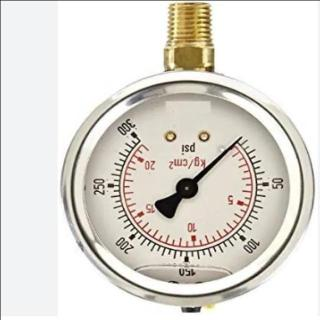gauge: (58, 64, 318, 316), (126, 127, 150, 153), (174, 177, 198, 199), (226, 128, 248, 152), (233, 132, 245, 144)
